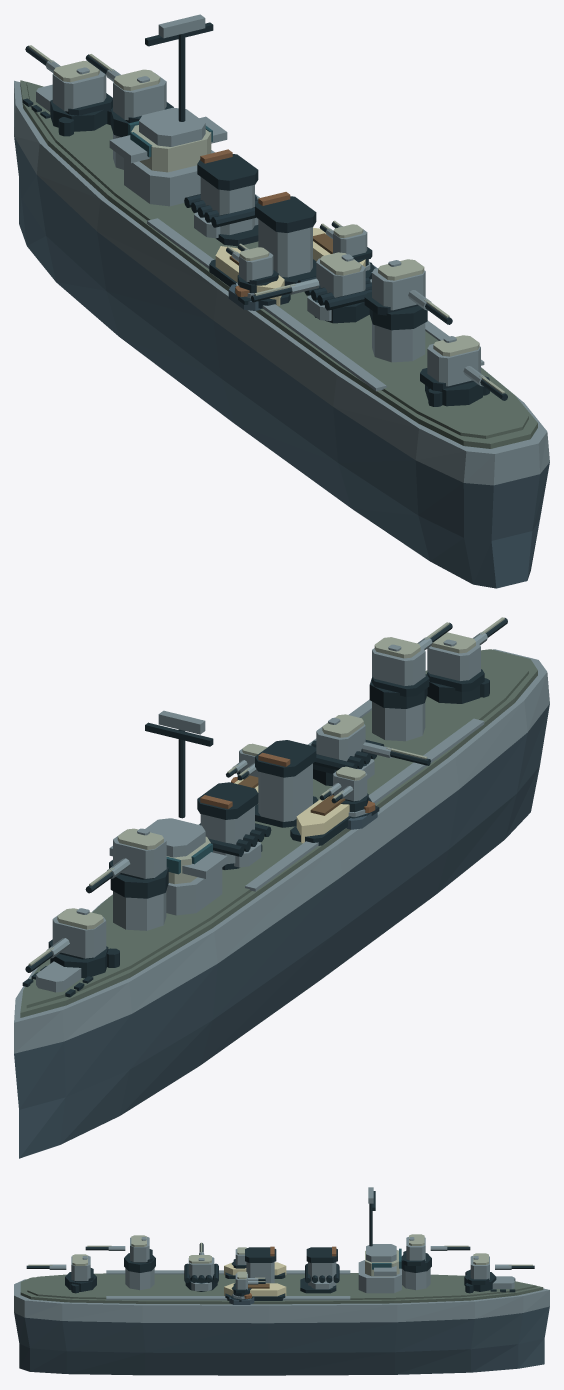
File: destroyer.glb
3 renders of one model, top to bottom at view 1: azimuth 30°, elevation 25°; view 2: azimuth 150°, elevation 25°; view 3: azimuth 270°, elevation 25°, orthographic. The views are drawn at different scales.
Parts seen in each view (by area): view 1: destroyer-destroyer-geometry, destroyer-part_bridge.001-geometry, destroyer-historic_funnel_1-geometry, destroyer-historic_funnel_0.001-geometry, destroyer-turret_main_3-geometry, destroyer-turret_main_0-geometry, destroyer-turret_main_4-geometry, destroyer-turret_main_2-geometry, destroyer-turret_main_1-geometry, destroyer-turret_aa_aa-port.002-geometry, destroyer-torpedo_bank_1-geometry, destroyer-turret_aa_aa-starboard.001-geometry (+1 smaller); view 2: destroyer-destroyer-geometry, destroyer-part_bridge.001-geometry, destroyer-historic_funnel_1-geometry, destroyer-turret_main_3-geometry, destroyer-turret_main_1-geometry, destroyer-turret_main_4-geometry, destroyer-turret_main_0-geometry, destroyer-historic_funnel_0.001-geometry, destroyer-turret_main_2-geometry, destroyer-turret_aa_aa-port.002-geometry, destroyer-torpedo_bank_1-geometry, destroyer-torpedo_bank_0-geometry (+1 smaller); view 3: destroyer-destroyer-geometry, destroyer-part_bridge.001-geometry, destroyer-historic_funnel_0.001-geometry, destroyer-turret_main_1-geometry, destroyer-turret_main_3-geometry, destroyer-turret_main_4-geometry, destroyer-turret_main_0-geometry, destroyer-historic_funnel_1-geometry, destroyer-turret_main_2-geometry, destroyer-torpedo_bank_0-geometry, destroyer-turret_aa_aa-starboard.001-geometry, destroyer-torpedo_bank_1-geometry (+1 smaller).
Boxes of the visible parts, bbox=[...] form: destroyer-destroyer-geometry: bbox=[14, 80, 549, 588]; destroyer-part_bridge.001-geometry: bbox=[109, 14, 227, 206]; destroyer-historic_funnel_1-geometry: bbox=[255, 192, 316, 285]; destroyer-historic_funnel_0.001-geometry: bbox=[197, 149, 258, 246]; destroyer-turret_main_3-geometry: bbox=[364, 259, 452, 330]; destroyer-turret_main_0-geometry: bbox=[25, 45, 112, 131]; destroyer-turret_main_4-geometry: bbox=[420, 335, 507, 406]; destroyer-turret_main_2-geometry: bbox=[251, 252, 369, 323]; destroyer-turret_main_1-geometry: bbox=[85, 54, 173, 137]; destroyer-turret_aa_aa-port.002-geometry: bbox=[226, 243, 278, 293]; destroyer-torpedo_bank_1-geometry: bbox=[184, 194, 258, 238]; destroyer-turret_aa_aa-starboard.001-geometry: bbox=[319, 220, 372, 265]; destroyer-destroyer-geometry: bbox=[14, 649, 549, 1158]; destroyer-part_bridge.001-geometry: bbox=[109, 710, 227, 915]; destroyer-historic_funnel_1-geometry: bbox=[255, 740, 318, 827]; destroyer-turret_main_3-geometry: bbox=[369, 622, 452, 708]; destroyer-turret_main_1-geometry: bbox=[85, 828, 168, 898]; destroyer-turret_main_4-geometry: bbox=[427, 617, 507, 703]; destroyer-turret_main_0-geometry: bbox=[25, 908, 108, 978]; destroyer-historic_funnel_0.001-geometry: bbox=[197, 782, 262, 869]; destroyer-turret_main_2-geometry: bbox=[313, 714, 430, 785]; destroyer-turret_aa_aa-port.002-geometry: bbox=[319, 766, 368, 812]; destroyer-torpedo_bank_1-geometry: bbox=[199, 823, 271, 867]; destroyer-torpedo_bank_0-geometry: bbox=[311, 740, 383, 779]; destroyer-destroyer-geometry: bbox=[14, 1262, 549, 1375]; destroyer-part_bridge.001-geometry: bbox=[358, 1187, 401, 1293]; destroyer-historic_funnel_0.001-geometry: bbox=[300, 1246, 337, 1293]; destroyer-turret_main_1-geometry: bbox=[401, 1234, 470, 1272]; destroyer-turret_main_3-geometry: bbox=[85, 1235, 155, 1272]; destroyer-turret_main_4-geometry: bbox=[26, 1254, 96, 1291]; destroyer-turret_main_0-geometry: bbox=[464, 1253, 534, 1291]; destroyer-historic_funnel_1-geometry: bbox=[245, 1246, 276, 1283]; destroyer-turret_main_2-geometry: bbox=[185, 1242, 217, 1291]; destroyer-torpedo_bank_0-geometry: bbox=[184, 1263, 218, 1290]; destroyer-turret_aa_aa-starboard.001-geometry: bbox=[231, 1271, 265, 1296]; destroyer-torpedo_bank_1-geometry: bbox=[305, 1263, 339, 1289].
Size of the model in its own units: 0.7343 by 1.45 by 4.11.
